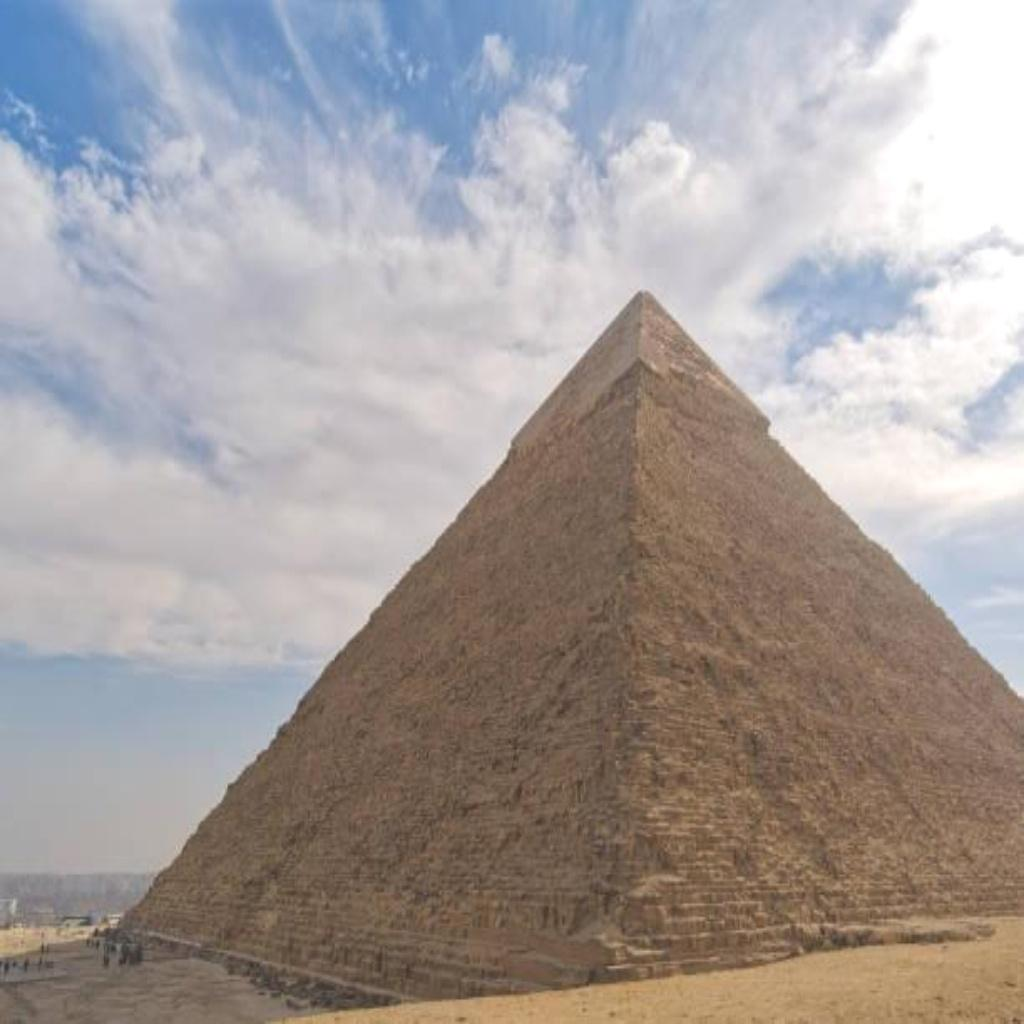Great Pyramids of Giza: (109, 281, 1019, 1004)
